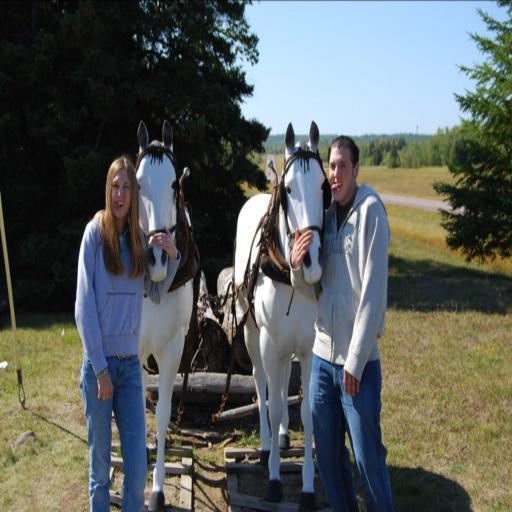horse: (234, 119, 327, 511), (133, 118, 195, 511)
